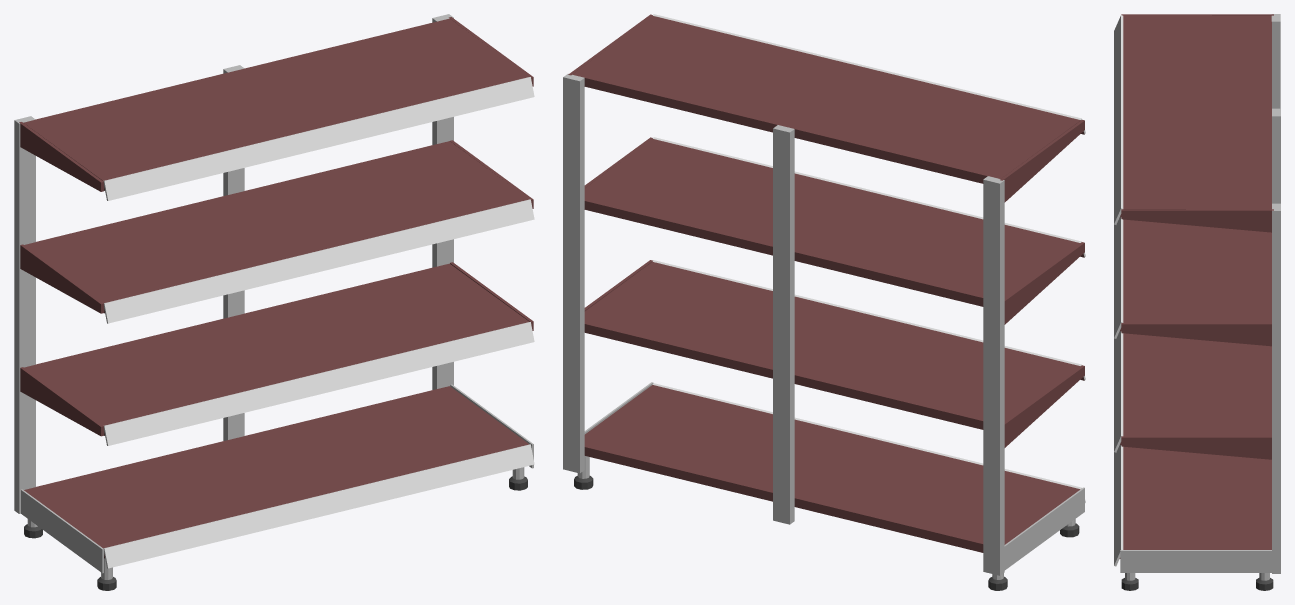
Rendered from Shelf.fbx.
3 renders of one model, left to right at view 1: azimuth 30°, elevation 25°; view 2: azimuth 150°, elevation 25°; view 3: azimuth 270°, elevation 25°, orthographic. The views are drawn at different scales.
Parts seen in each view (by area): view 1: Shelf_4, Bottom_Shelf, Shelf_2, Shelf_3, Col_1, left_holder (×3), left_cover, Col_2, Col_3; view 2: Shelf_4, Shelf_2, Bottom_Shelf, Shelf_3, Col_2, Col_3, Col_1, left_holder (×3), left_cover; view 3: Shelf_4, Shelf_2, Shelf_3, Bottom_Shelf, right_holder (×3), right_cover1, Col_3, Col_2, Col_1, left_holder, Foot_2, Foot_4.
Part boxes in pixels (<box>): Shelf_4: <box>23,18,534,200</box>; Bottom_Shelf: <box>24,386,534,568</box>; Shelf_2: <box>24,263,534,445</box>; Shelf_3: <box>24,141,534,323</box>; Col_1: <box>14,116,35,513</box>; left_holder (×3): <box>19,122,103,436</box>; left_cover: <box>21,489,103,573</box>; Col_2: <box>223,65,244,440</box>; Col_3: <box>432,14,453,389</box>; Shelf_4: <box>572,14,1085,183</box>; Shelf_2: <box>584,260,1085,429</box>; Bottom_Shelf: <box>584,383,1085,552</box>; Shelf_3: <box>584,137,1085,306</box>; Col_2: <box>773,125,794,524</box>; Col_3: <box>563,73,584,473</box>; Col_1: <box>983,176,1004,575</box>; left_holder (×3): <box>1000,120,1084,447</box>; left_cover: <box>1004,487,1084,570</box>; Shelf_4: <box>1114,15,1271,224</box>; Shelf_2: <box>1114,331,1271,452</box>; Shelf_3: <box>1114,217,1271,338</box>; Bottom_Shelf: <box>1114,445,1271,566</box>; right_holder (×3): <box>1121,209,1273,459</box>; right_cover1: <box>1120,550,1271,572</box>; Col_3: <box>1272,203,1280,573</box>; Col_2: <box>1272,108,1280,203</box>; Col_1: <box>1271,14,1280,108</box>; left_holder: <box>1121,14,1273,15</box>; Foot_2: <box>1121,573,1138,590</box>; Foot_4: <box>1256,573,1273,590</box>.
Size of the model in its own units: 52 by 47.02 by 18.6.
